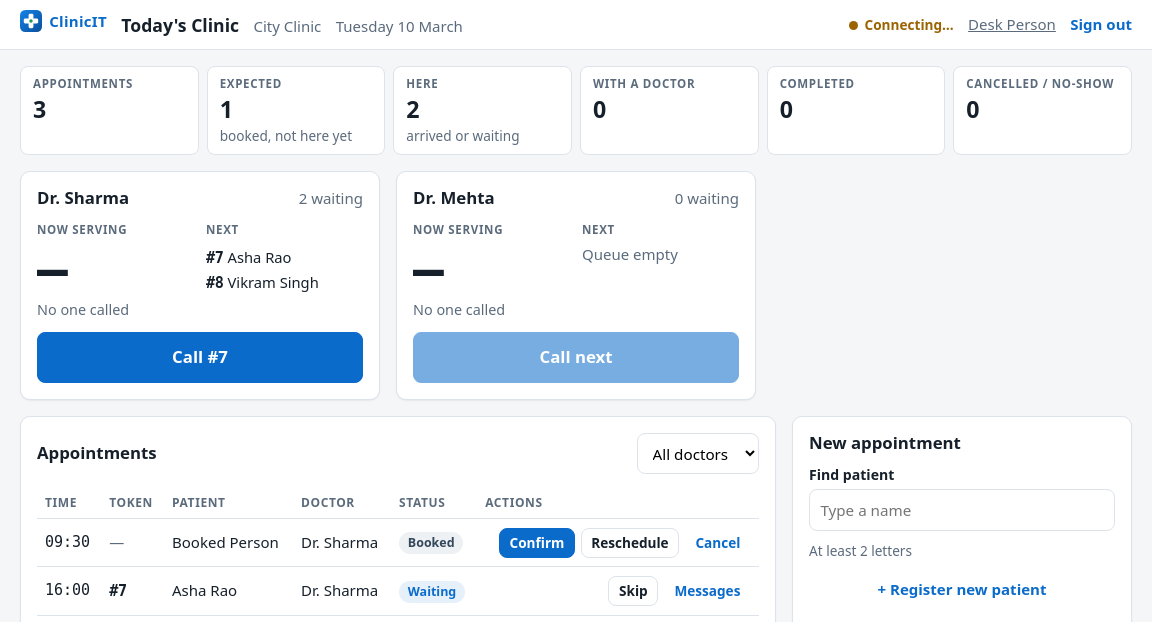
Scenario: ReceptionConsole › reschedules a booked appointment to a free slot of the same doctor
Check: the text "Today's Clinic" is shown, box [121,13,239,39]
Check: the element named "Queue for Dr. Sharma" shows "#7", box [37,332,363,383]
Click the button with aria-label "Reschedule: Booked Person" at (630, 543), box [581,528,679,558]
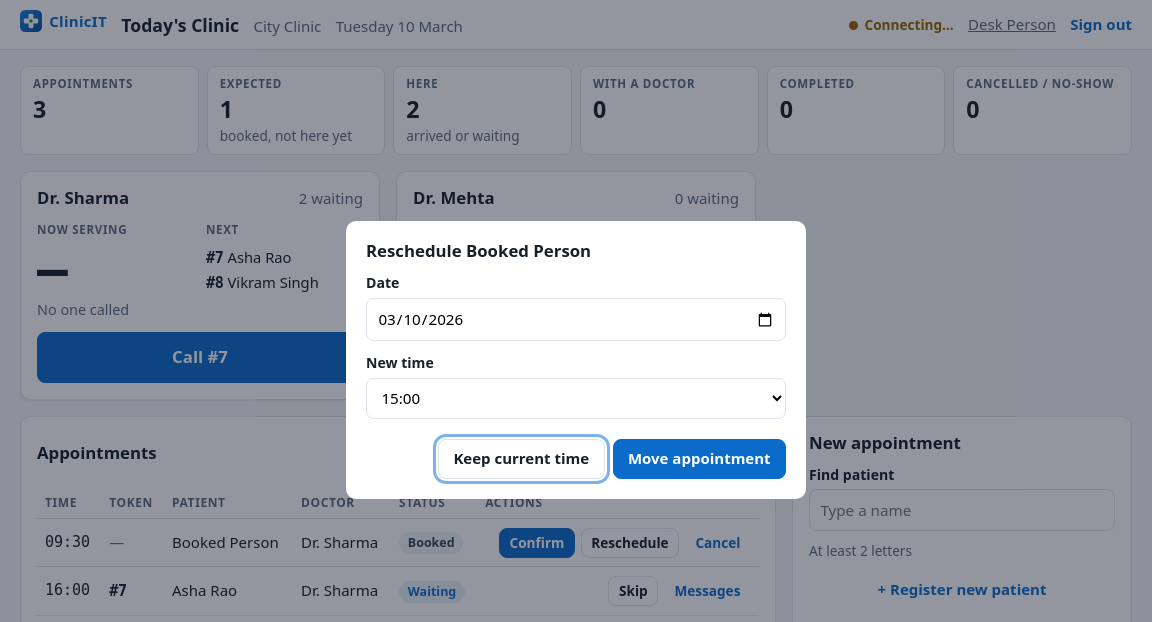
Check: the dropdown labelled "New time" shows "15:00", box [366,378,786,419]
Click the button "Move appointment" at (699, 459), box [612,439,786,479]
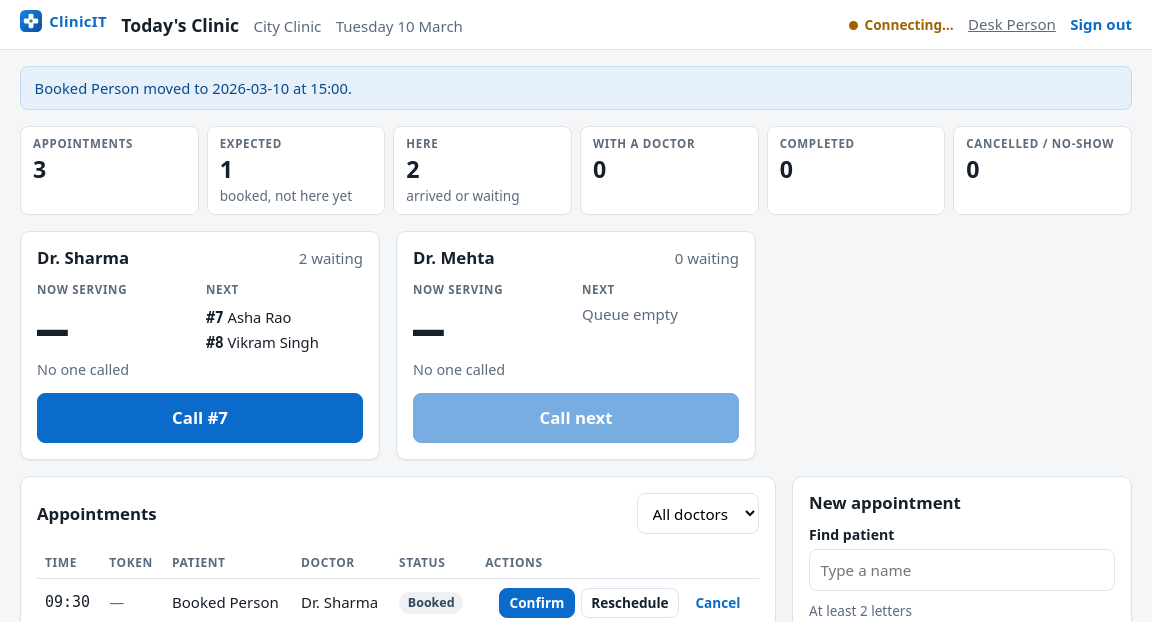
Check: the text "Booked Person moved to 2026-03-10 at 15:00." is shown, box [20,66,1132,110]
Check: the dialog is gone
